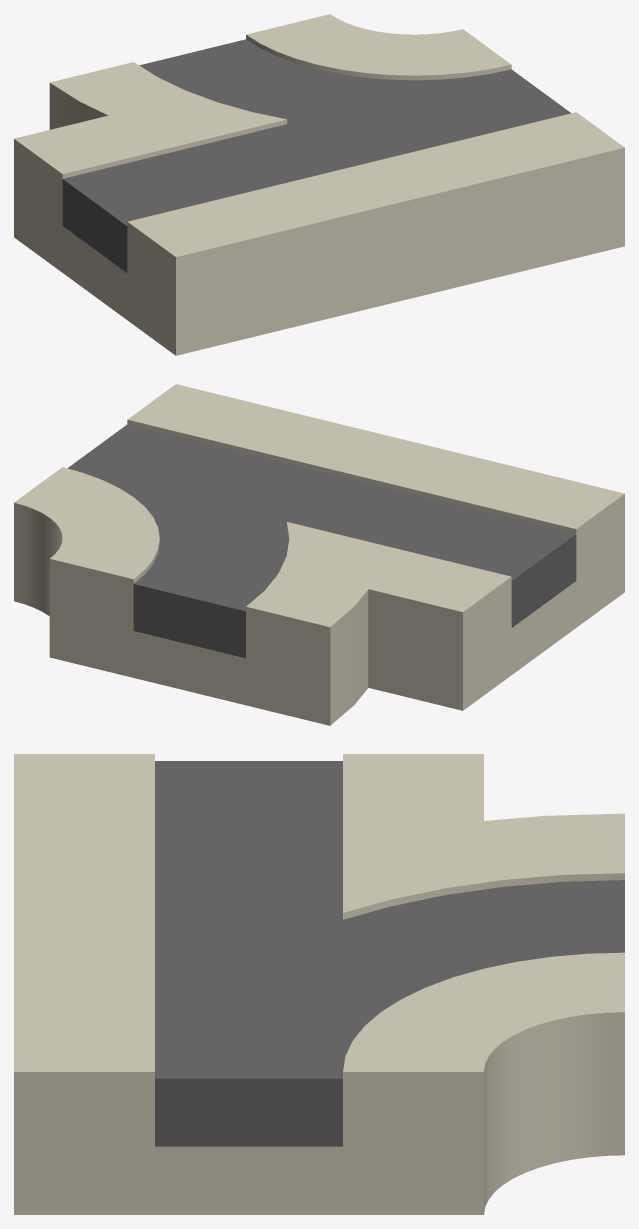
The model's file is tile110.dae.
The picture shows the model from 3 angles, top to bottom: view 1: azimuth 30°, elevation 25°; view 2: azimuth 150°, elevation 25°; view 3: azimuth 270°, elevation 25°; orthographic projection. The views are drawn at different scales.
Parts seen in each view (by area): view 1: tile110; view 2: tile110; view 3: tile110.
Boxes of the visible parts, <box> form: tile110: <box>14,14,624,355</box>; tile110: <box>14,384,624,725</box>; tile110: <box>14,754,624,1214</box>.
Bounding box in the file's own units: 1 × 0.21 × 0.8125.
